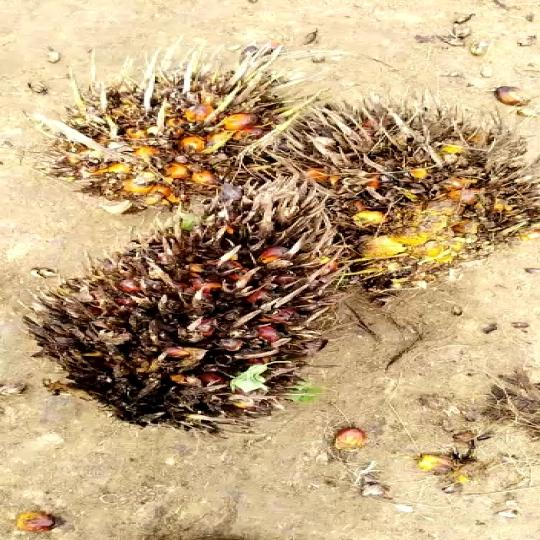terlalu masak: (31, 207, 334, 432), (225, 110, 540, 287), (51, 49, 316, 214)
